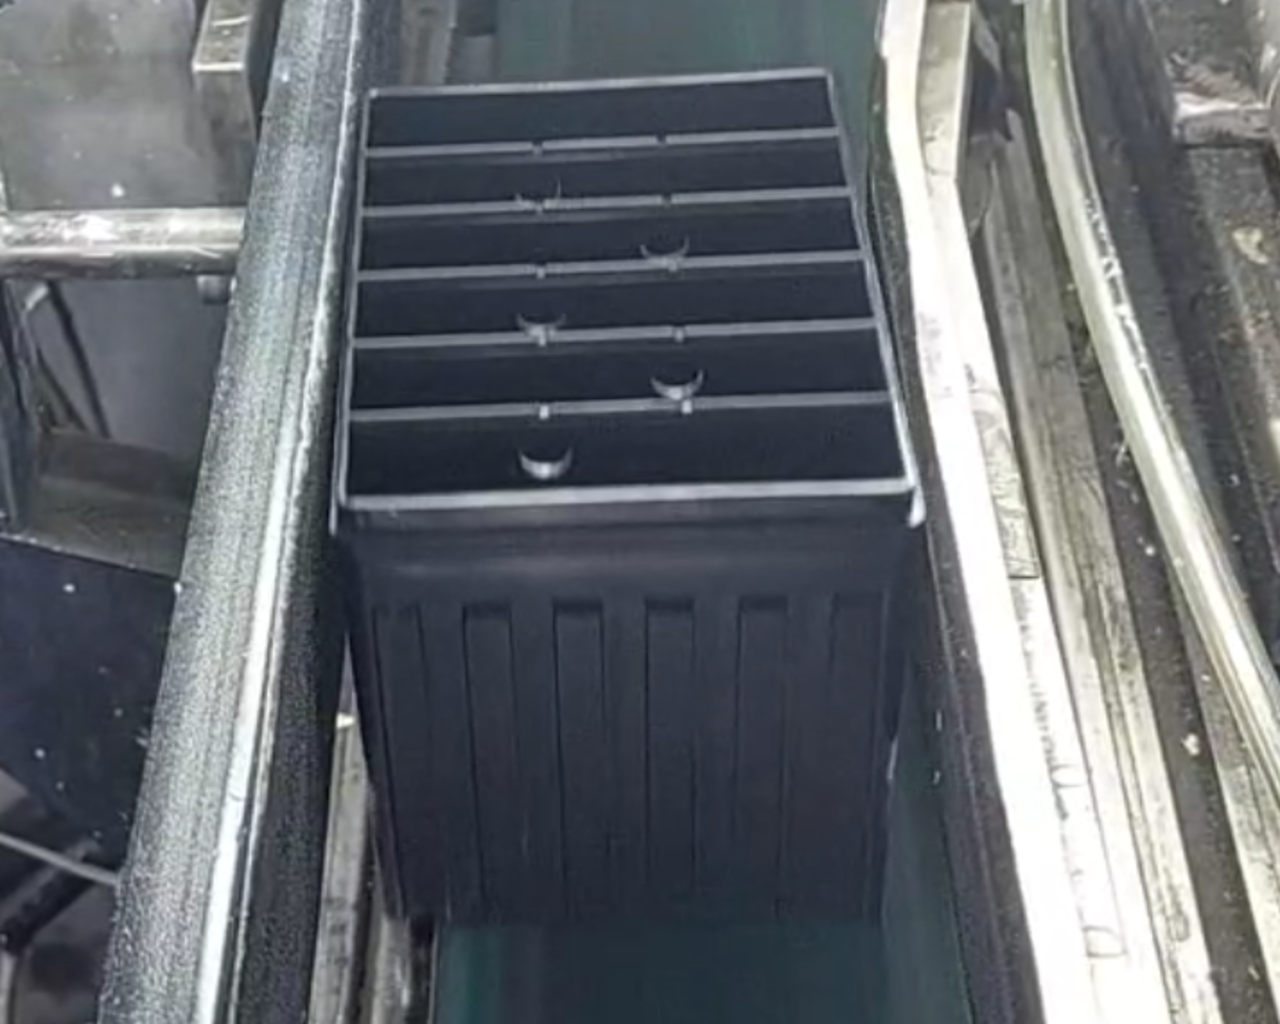box: (312, 56, 941, 550)
round: (505, 426, 584, 486), (641, 355, 712, 404), (507, 291, 573, 335), (506, 159, 569, 204), (634, 216, 695, 262)
